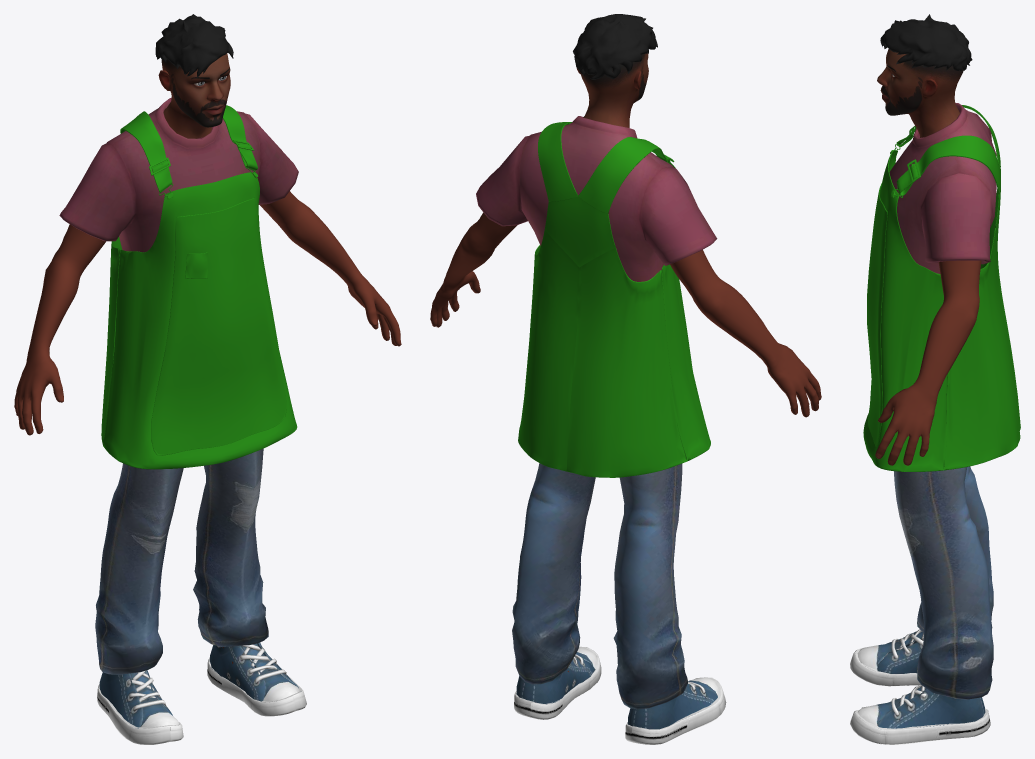
Rendered from gardener.fbx.
3 renders of one model, left to right at view 1: azimuth 30°, elevation 25°; view 2: azimuth 150°, elevation 25°; view 3: azimuth 270°, elevation 25°, orthographic.
Parts seen in each view (by area): view 1: Object_22, Wolf3D_Outfit_Bottom, Wolf3D_Outfit_Top, Wolf3D_Body, Wolf3D_Outfit_Footwear, Wolf3D_Head, Wolf3D_Hair; view 2: Object_22, Wolf3D_Outfit_Bottom, Wolf3D_Outfit_Top, Wolf3D_Body, Wolf3D_Outfit_Footwear, Wolf3D_Hair, Wolf3D_Head; view 3: Object_22, Wolf3D_Outfit_Bottom, Wolf3D_Outfit_Top, Wolf3D_Outfit_Footwear, Wolf3D_Body, Wolf3D_Head, Wolf3D_Hair.
Boxes of the visible parts, <box> form: Object_22: <box>101,105,297,469</box>; Wolf3D_Outfit_Bottom: <box>95,448,268,674</box>; Wolf3D_Outfit_Top: <box>59,97,298,252</box>; Wolf3D_Body: <box>14,191,401,663</box>; Wolf3D_Outfit_Footwear: <box>97,642,306,744</box>; Wolf3D_Head: <box>158,53,230,138</box>; Wolf3D_Hair: <box>155,14,233,77</box>; Object_22: <box>518,122,710,477</box>; Wolf3D_Outfit_Bottom: <box>512,463,687,709</box>; Wolf3D_Outfit_Top: <box>476,116,717,281</box>; Wolf3D_Body: <box>430,212,821,671</box>; Wolf3D_Outfit_Footwear: <box>514,646,726,744</box>; Wolf3D_Hair: <box>573,14,657,79</box>; Wolf3D_Head: <box>576,53,648,127</box>; Object_22: <box>863,105,1020,471</box>; Wolf3D_Outfit_Bottom: <box>893,466,993,699</box>; Wolf3D_Outfit_Top: <box>889,103,996,273</box>; Wolf3D_Outfit_Footwear: <box>850,629,990,744</box>; Wolf3D_Body: <box>875,260,981,465</box>; Wolf3D_Head: <box>877,49,963,137</box>; Wolf3D_Hair: <box>880,14,972,71</box>.
Bounding box in the file's own units: 106 × 187 × 42.06.
9 materials, 8 textured.
